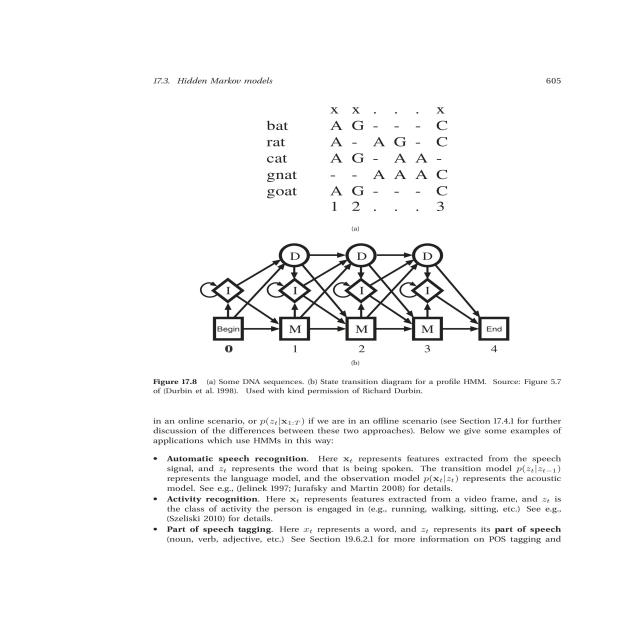diagram: (108, 104, 611, 406)
